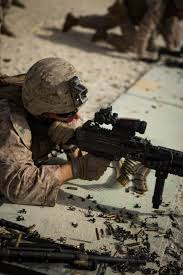gun: (69, 107, 182, 208)
